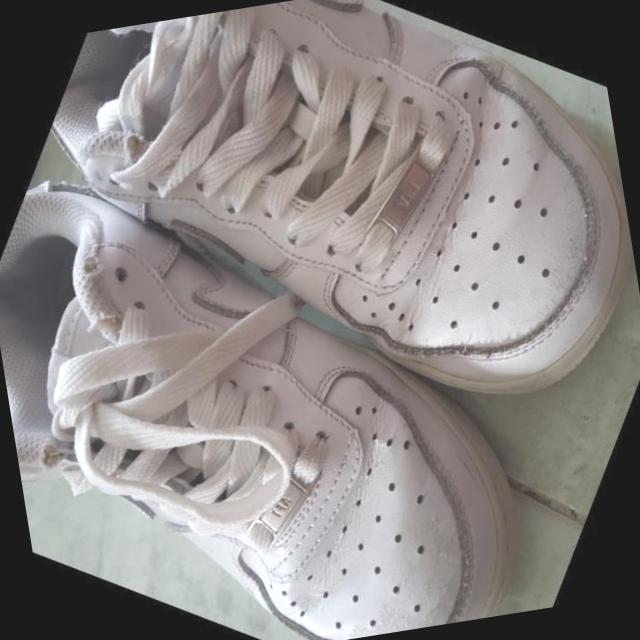nike_original_airforce: (20, 0, 640, 640), (0, 0, 465, 611)
